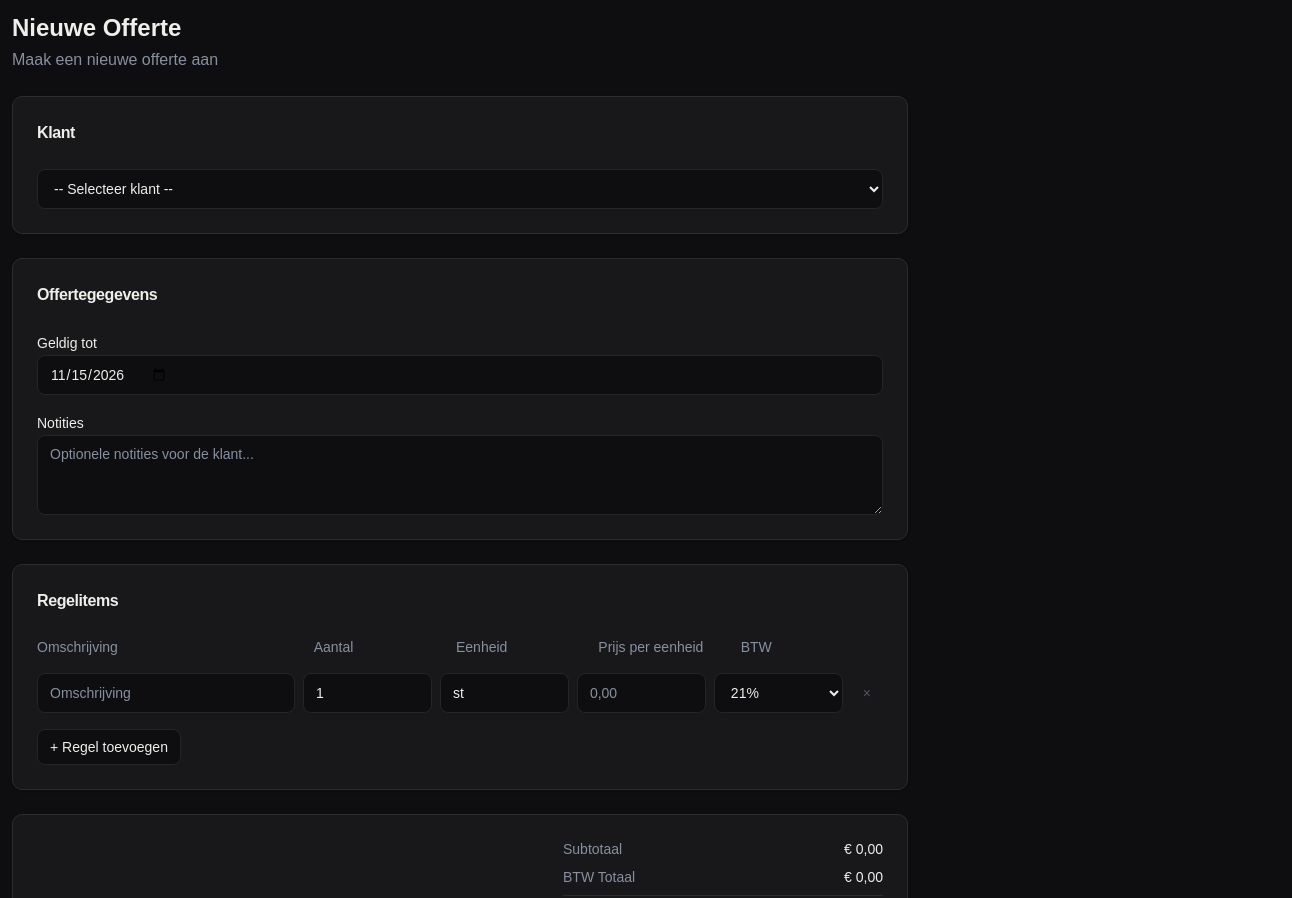
QuoteCreatePage › adds a new line item when 'Regel toevoegen' is clicked
The image size is (1292, 898).
Click the button "+ Regel toevoegen" at coordinates (109, 747), box top-left (37, 729), bottom-right (181, 765)
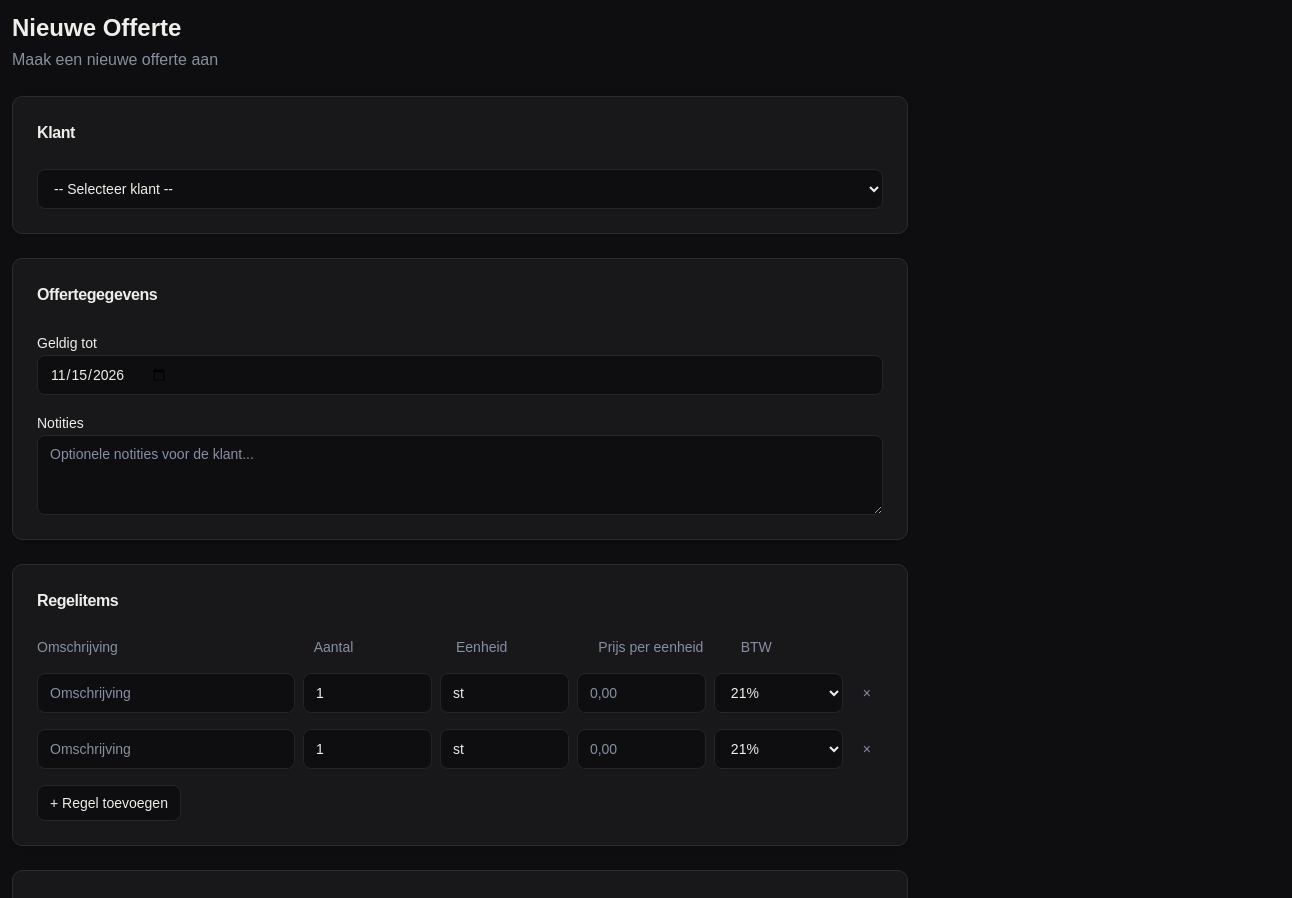
Check: the number of fields with placeholder "Omschrijving" is 2, box top-left (37, 673), bottom-right (295, 713); top-left (37, 729), bottom-right (295, 769)
